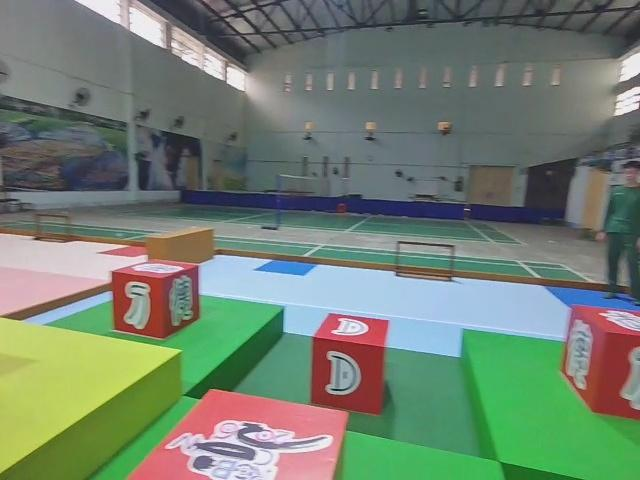R1: (124, 384, 352, 480)
R2 Fake: (558, 300, 640, 417), (110, 260, 202, 341)
R2 Real: (309, 309, 390, 416)
